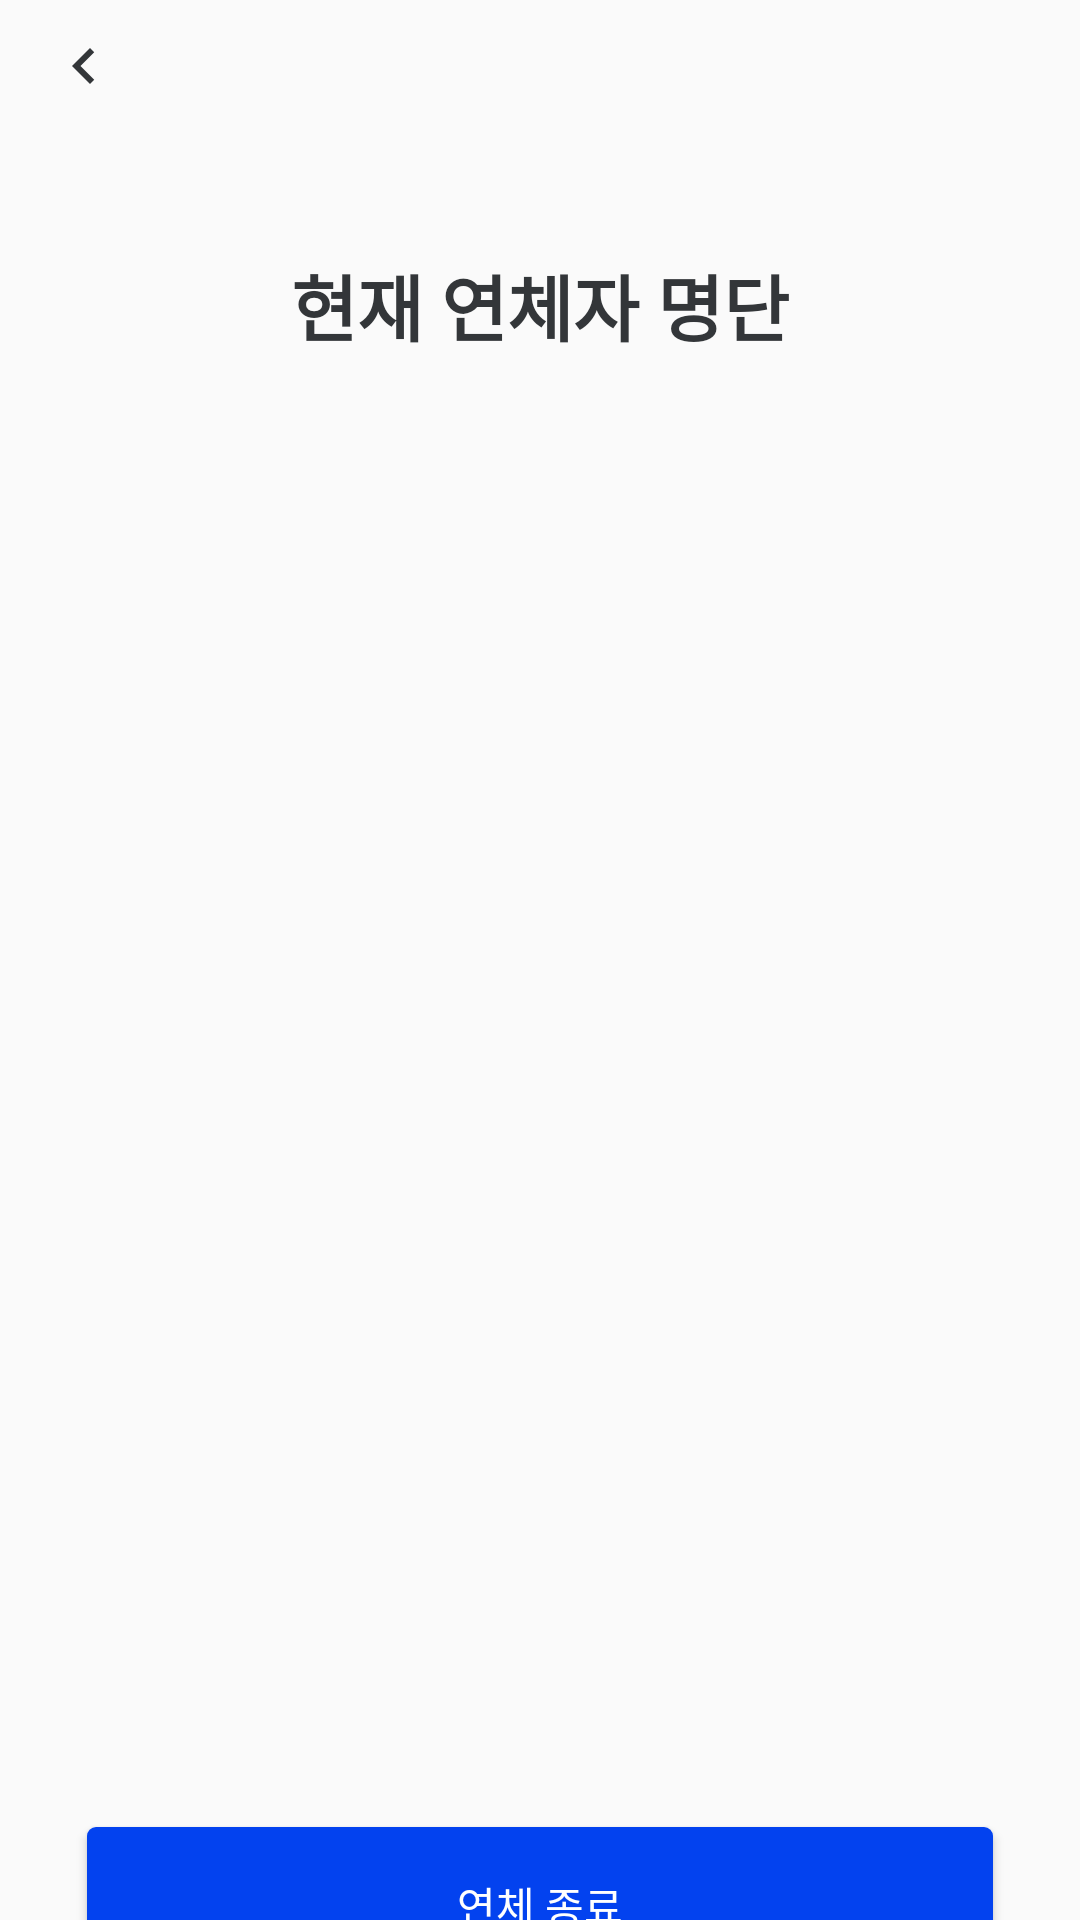

Screen size 1080×1920. Icon name, then its center in pixels as (x=x, y=y):
chevron left: (x=83, y=66)
